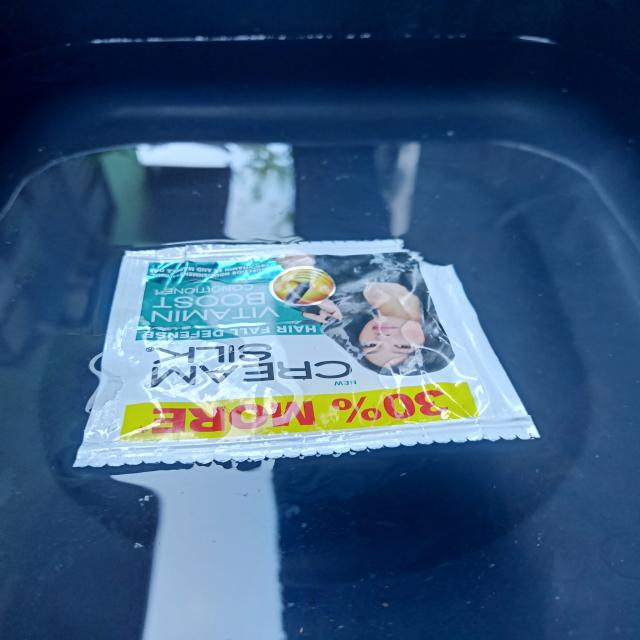Plastic Wrapper: (64, 223, 546, 485)
